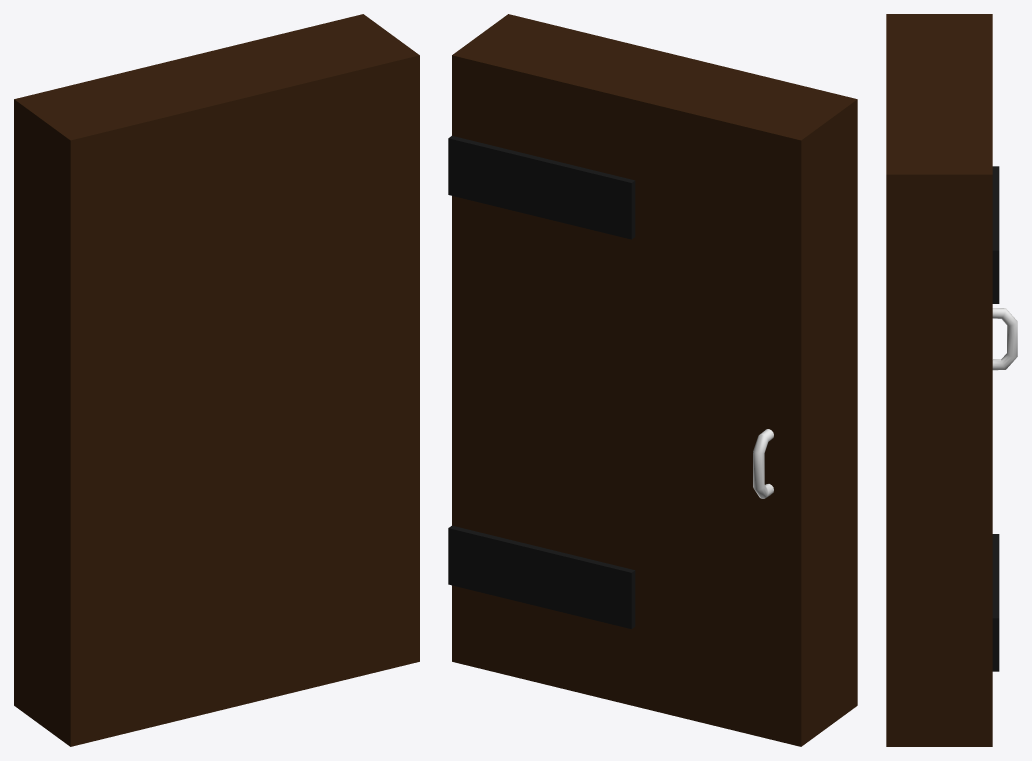
Rendered from House_Door_FBX.fbx.
The picture shows the model from 3 angles, left to right: view 1: azimuth 30°, elevation 25°; view 2: azimuth 150°, elevation 25°; view 3: azimuth 270°, elevation 25°; orthographic projection. The views are drawn at different scales.
Parts seen in each view (by area): view 1: Door006; view 2: Door006, Line005; view 3: Door006, Line005.
Part boxes in pixels (<box>): Door006: <box>14,14,419,746</box>; Door006: <box>448,14,857,746</box>; Line005: <box>753,429,773,498</box>; Door006: <box>886,14,999,746</box>; Line005: <box>992,308,1017,370</box>.
Bounding box in the file's own units: 143 × 237 × 49.4.
